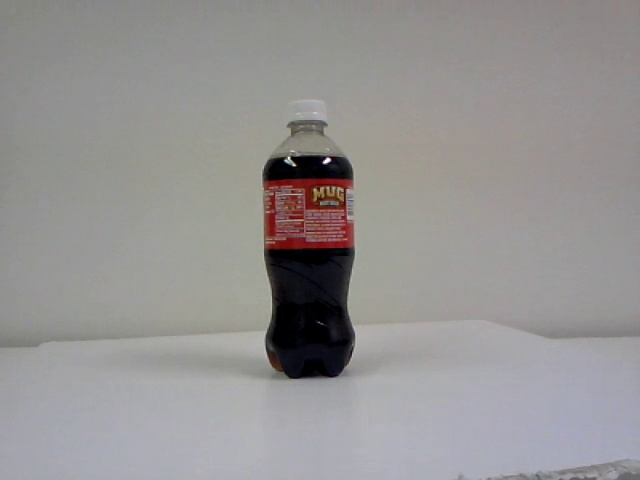botolplastik: (261, 101, 358, 380)
